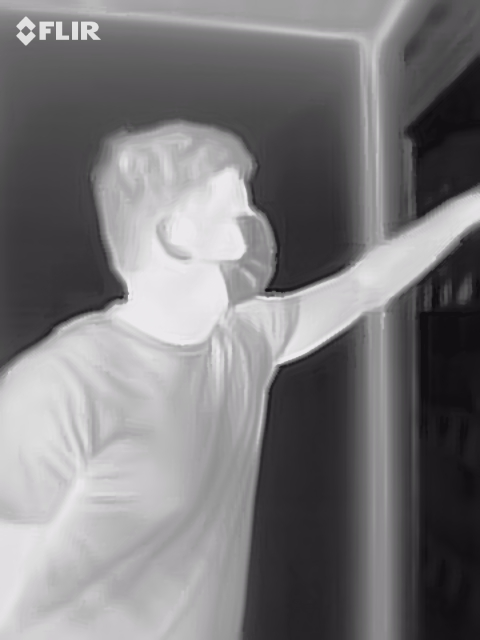head: (89, 118, 276, 309)
